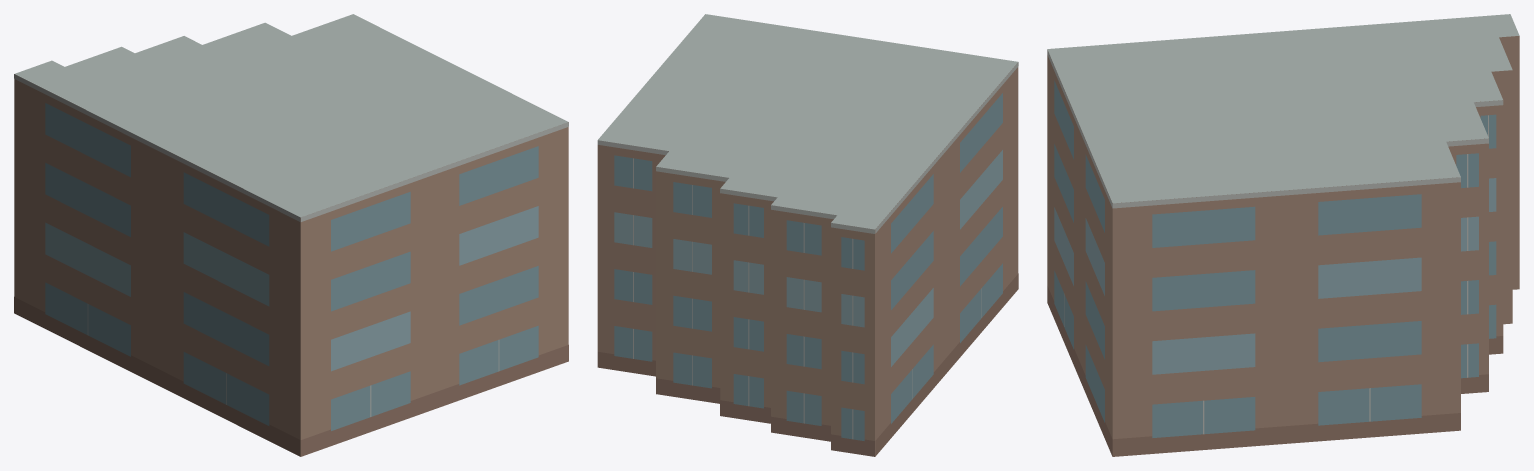
File: residential-a5aeaafd-baed-4fc6-8bf8-9a41b58585c8.glb
3 renders of one model, left to right at view 1: azimuth 30°, elevation 25°; view 2: azimuth 150°, elevation 25°; view 3: azimuth 270°, elevation 25°, orthographic. The views are drawn at different scales.
Parts seen in each view (by area): view 1: residential-a5aeaafd-baed-4fc6-8bf8-9a41b58585c8.tmp; view 2: residential-a5aeaafd-baed-4fc6-8bf8-9a41b58585c8.tmp; view 3: residential-a5aeaafd-baed-4fc6-8bf8-9a41b58585c8.tmp.
Part boxes in pixels (x1,y1,x2,y2): residential-a5aeaafd-baed-4fc6-8bf8-9a41b58585c8.tmp: [14, 14, 568, 456]; residential-a5aeaafd-baed-4fc6-8bf8-9a41b58585c8.tmp: [597, 14, 1018, 456]; residential-a5aeaafd-baed-4fc6-8bf8-9a41b58585c8.tmp: [1047, 14, 1519, 456].
Bounding box in the file's own units: 19.56 × 12.2 × 20.62.
